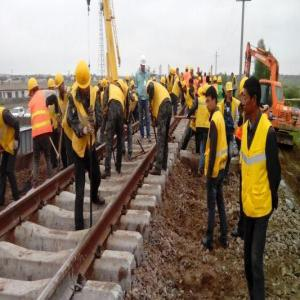none: (244, 77, 263, 119), (205, 86, 218, 113)
white: (140, 56, 148, 72)
yellow: (75, 62, 92, 97), (27, 77, 40, 98), (56, 71, 65, 93), (226, 81, 234, 99)
